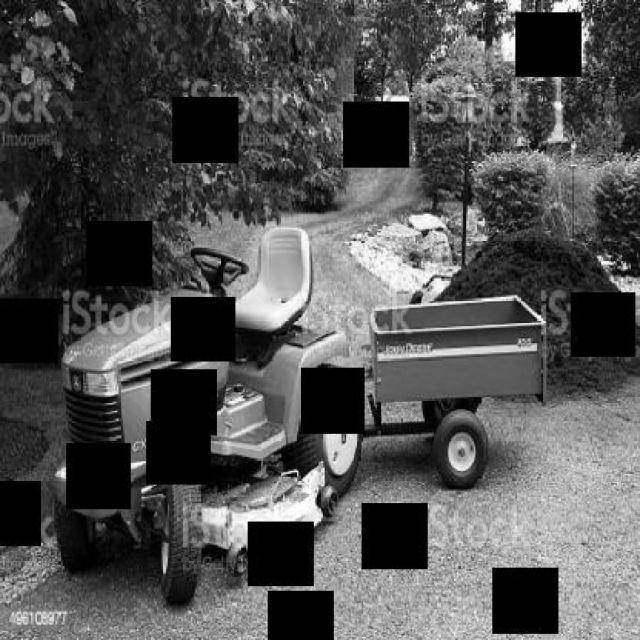Tratores - v5 YOLO V8L 2024-11-13: (37, 205, 376, 608)
